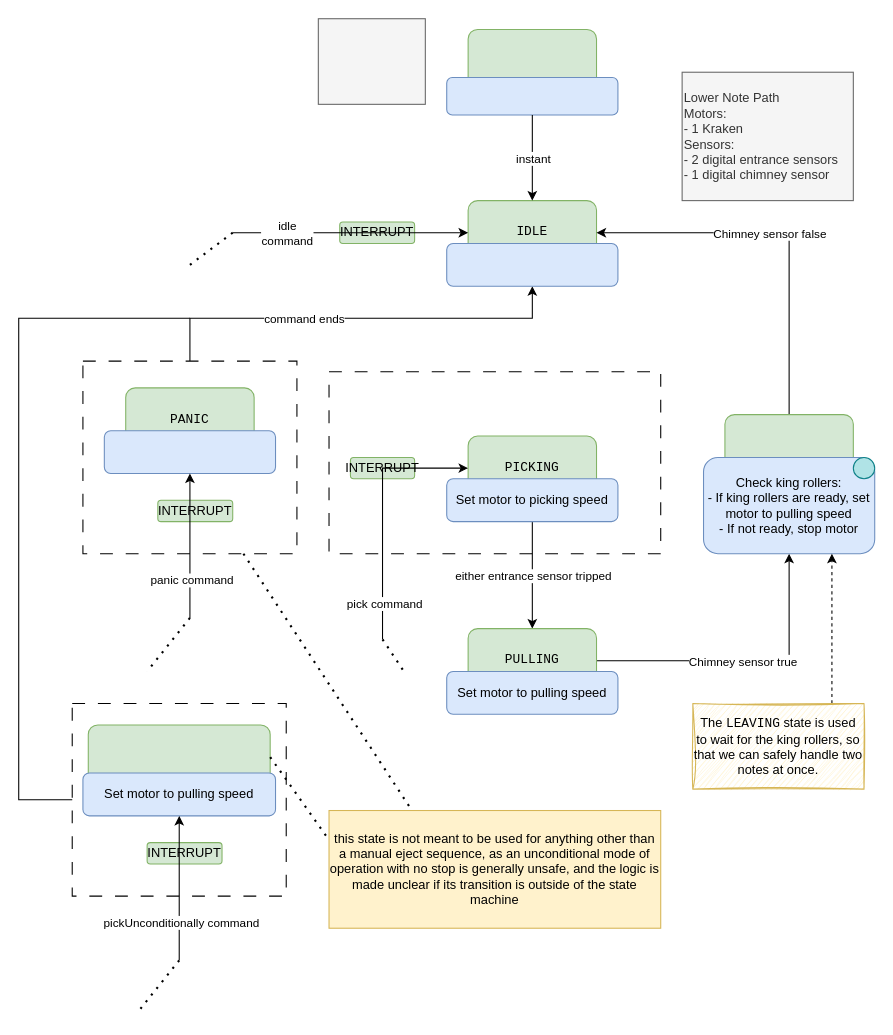
Some shapes in this 893 by 1035 pixel diagram are drawn without their labels. The centre of each missing label's shape, as x and y in pixels:
"IN IT" goes at point (532, 61).
"LEAVING" goes at point (788, 446).
"no init" goes at point (532, 96).
"PICK_UNCONDITIONALLY" goes at point (178, 756).
"Set motor to idle" goes at point (532, 264).
"Set motor to reverse" goes at point (189, 451).
"Speeds: - Idle - Picking - Pulling - Reverse/Panic" goes at point (371, 61).
